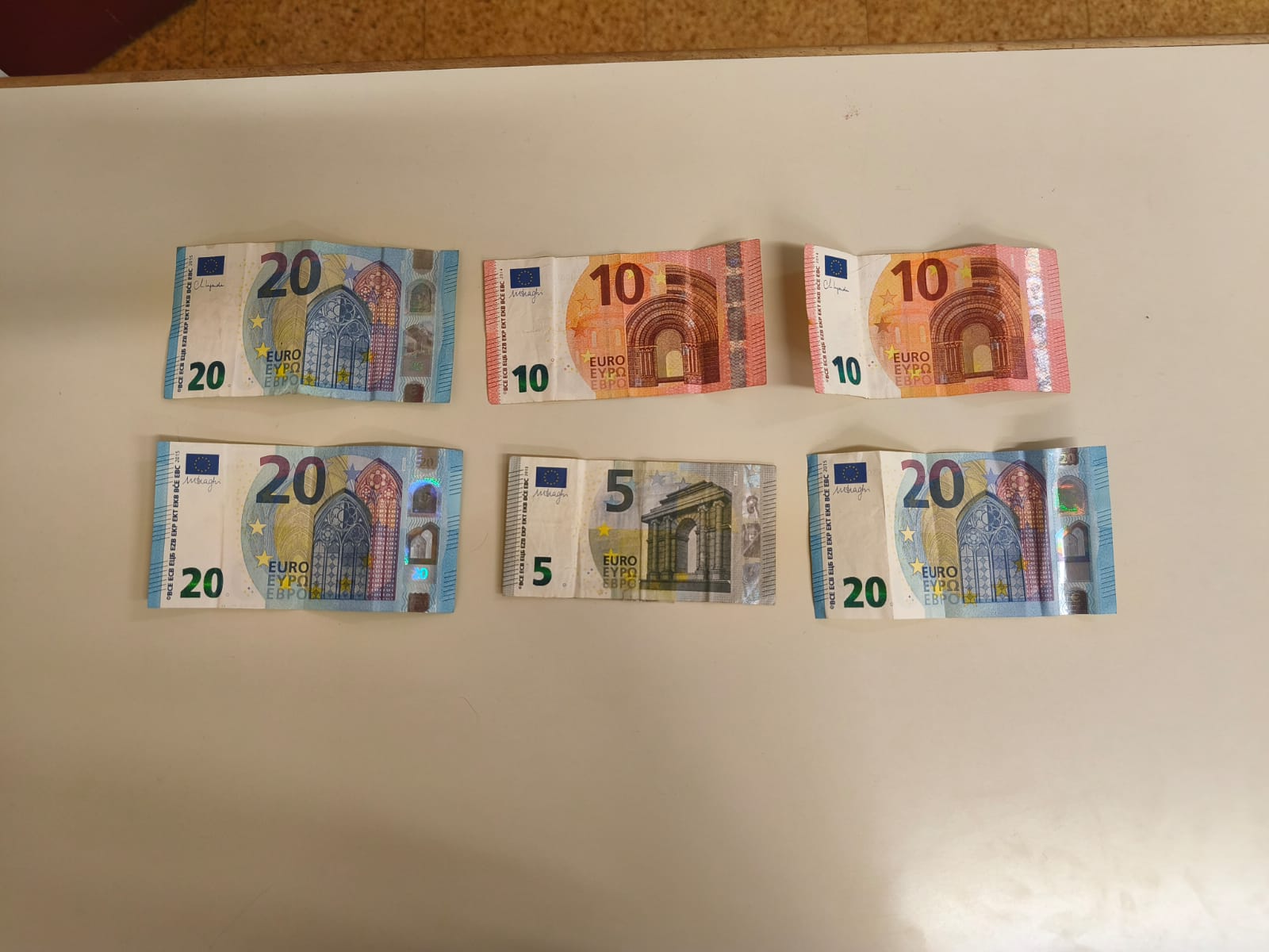Nota de 10€: (474, 253, 766, 413), (798, 242, 1070, 407)
Nota de 20€: (149, 431, 467, 613), (801, 446, 1120, 627), (165, 229, 463, 401)
Nota de 5€: (503, 446, 786, 603)
